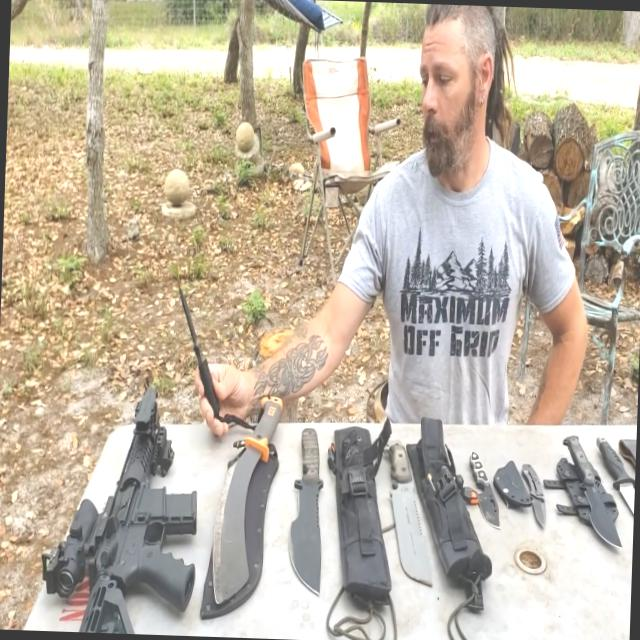knife: (207, 383, 293, 603), (374, 432, 457, 587), (282, 395, 338, 607), (560, 402, 631, 566), (168, 268, 240, 412), (519, 448, 557, 554), (463, 431, 503, 518)
long weapon: (50, 311, 227, 636)
